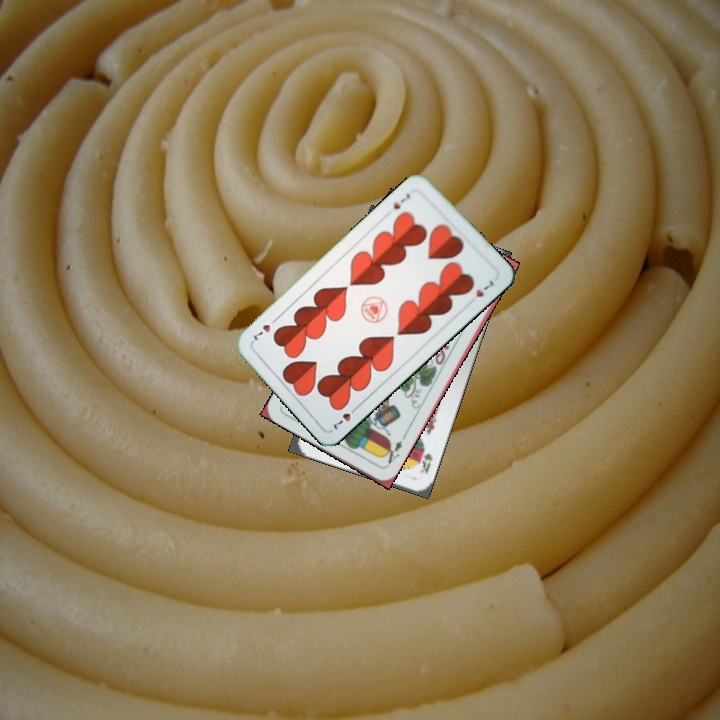EA: (379, 436, 405, 469)
H7: (329, 401, 361, 432), (389, 189, 413, 212)
SK: (417, 449, 435, 476)
